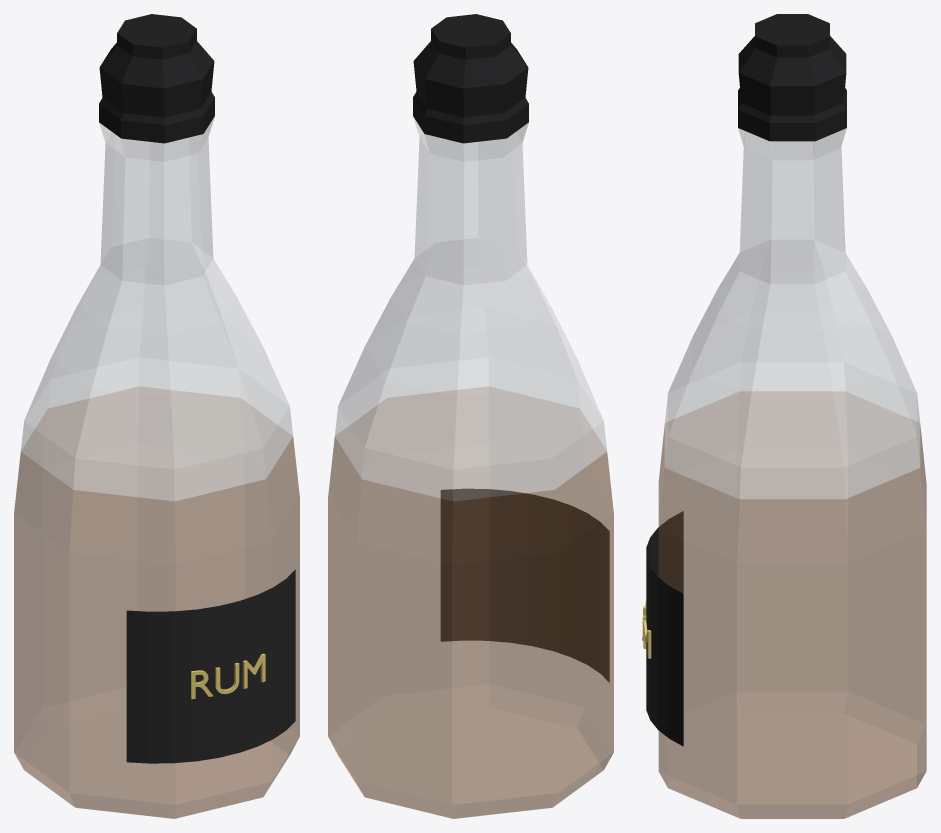
Rendered from rum_bottle.glb.
The picture shows the model from 3 angles, left to right: view 1: azimuth 30°, elevation 25°; view 2: azimuth 150°, elevation 25°; view 3: azimuth 270°, elevation 25°; orthographic projection.
Parts seen in each view (by area): view 1: Rum_Bottle; view 2: Rum_Bottle; view 3: Rum_Bottle.
Part boxes in pixels (x1,y1,x2,y2): Rum_Bottle: [14, 14, 299, 818]; Rum_Bottle: [328, 14, 613, 818]; Rum_Bottle: [642, 14, 926, 818].
Bounding box in the file's own units: 0.7945 × 2.41 × 0.8423.
